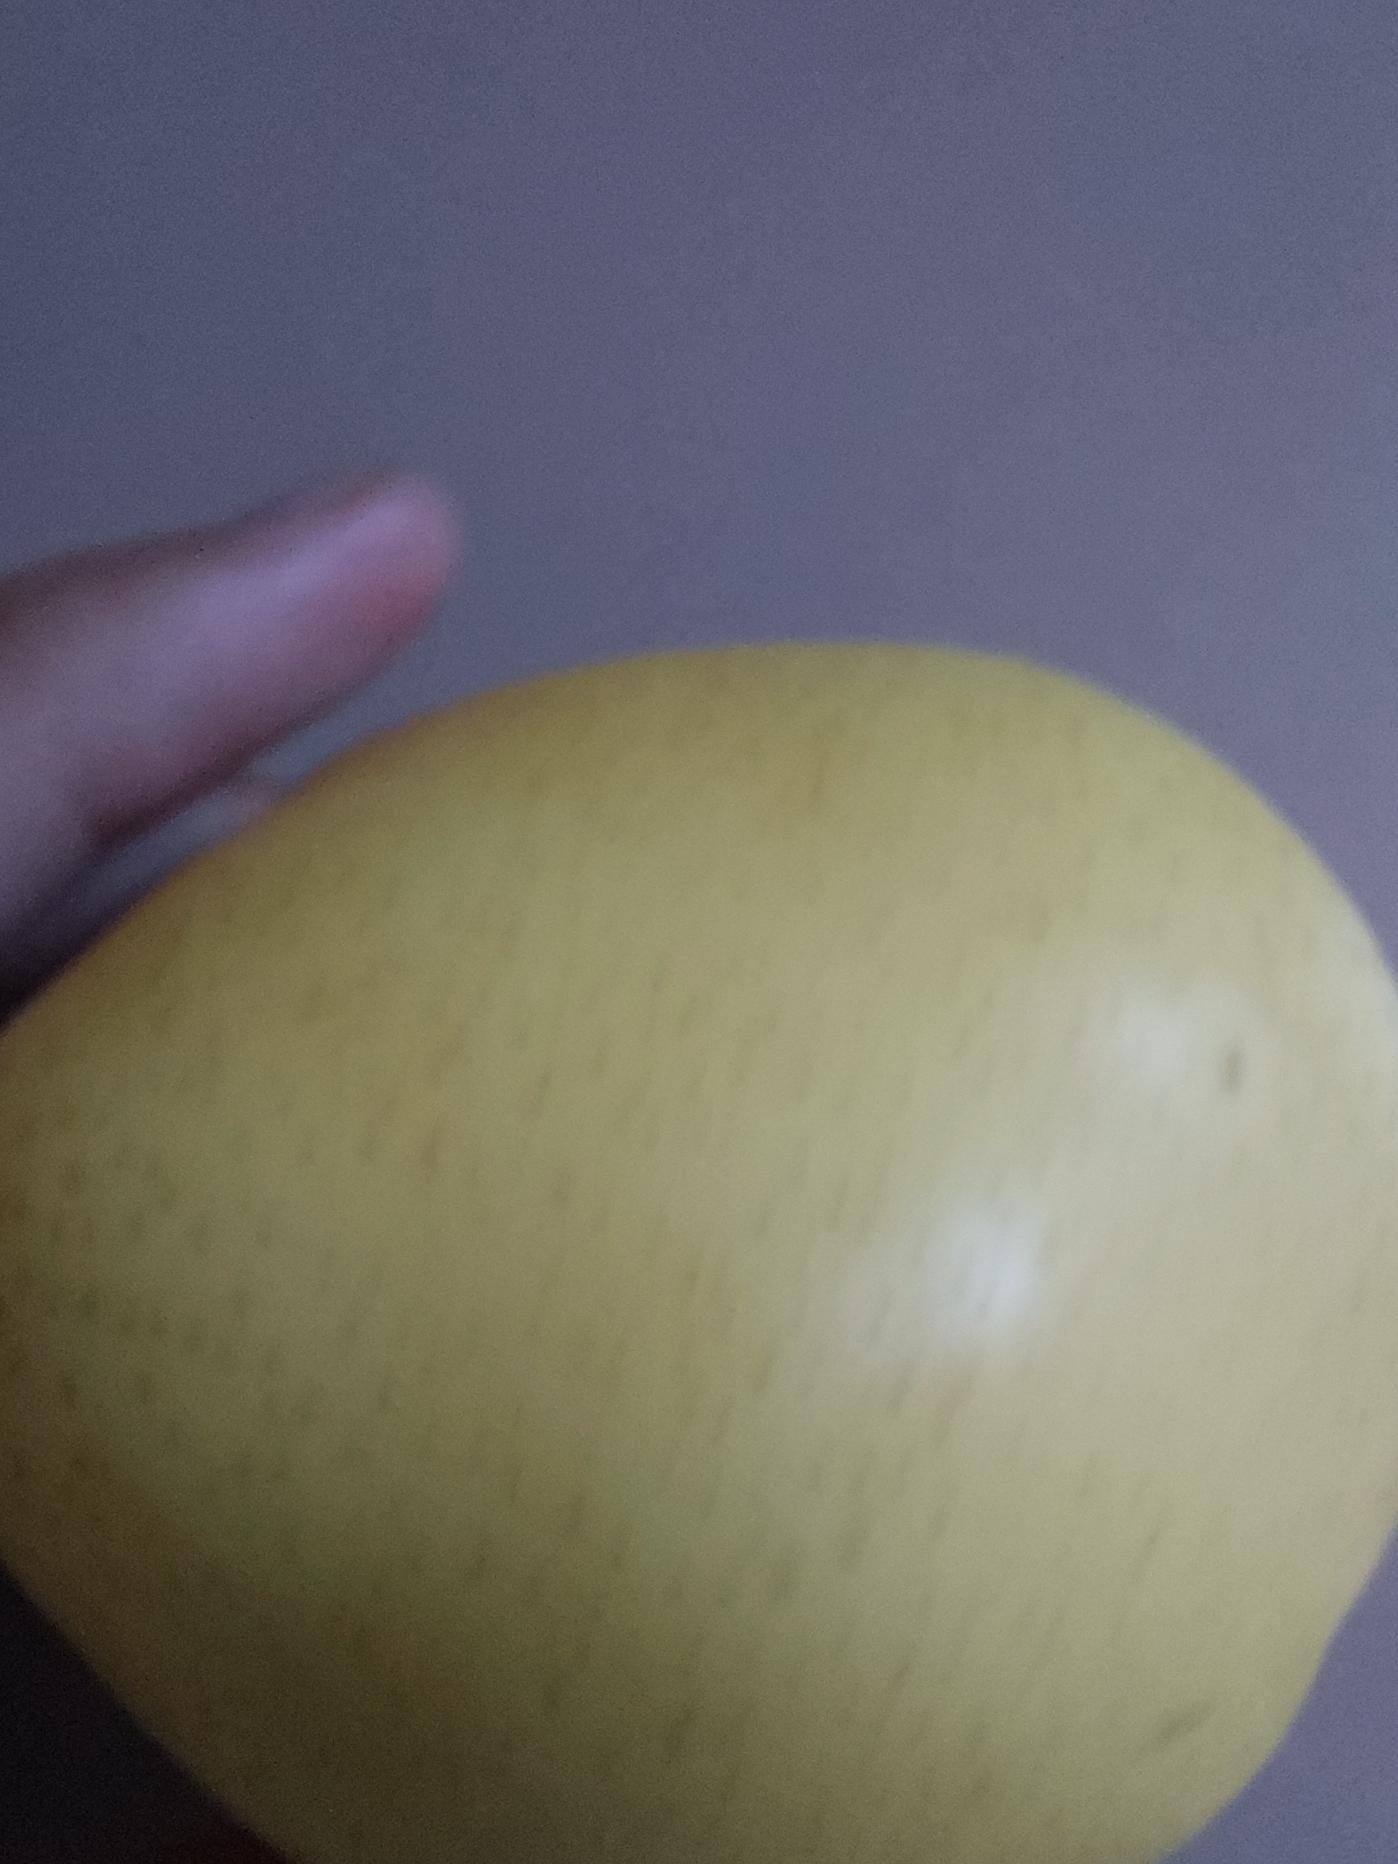Good Pear: (369, 591, 1398, 1864)
